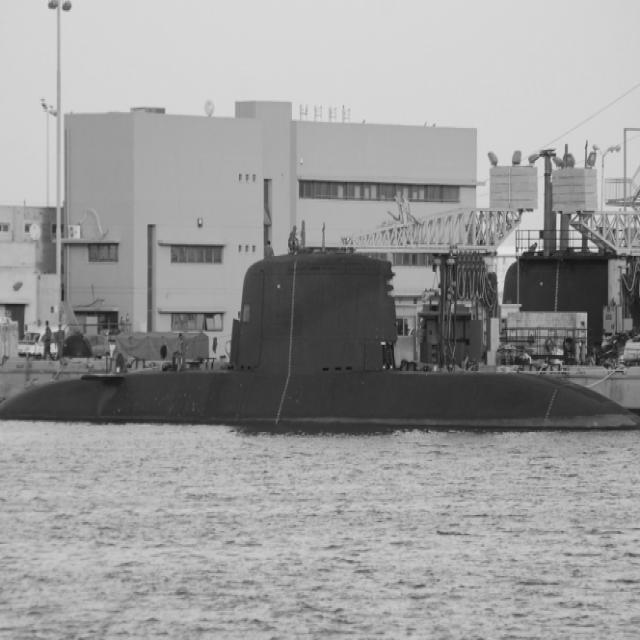submarine: (1, 244, 640, 434)
